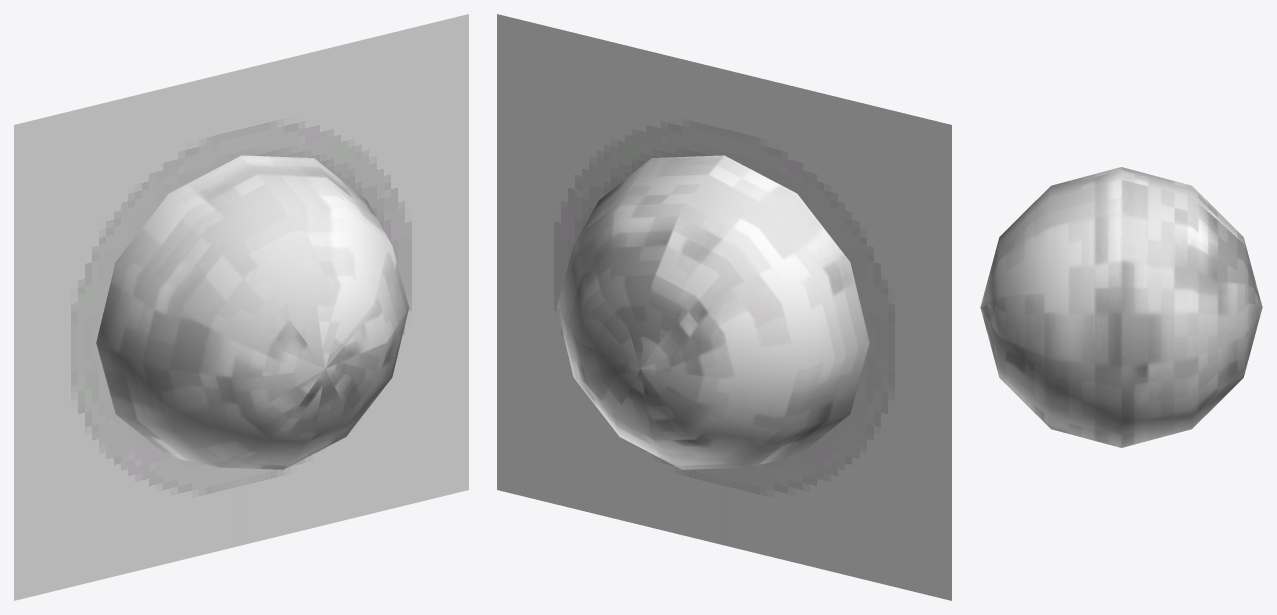
File: BonusDualWield Variant.fbx
The picture shows the model from 3 angles, left to right: view 1: azimuth 30°, elevation 25°; view 2: azimuth 150°, elevation 25°; view 3: azimuth 270°, elevation 25°; orthographic projection. The views are drawn at different scales.
Visible parts, largest first — view 1: ChargeEffect, BonusDualWield Variant; view 2: ChargeEffect, BonusDualWield Variant; view 3: BonusDualWield Variant.
Part boxes in pixels (x1,y1,x2,y2): ChargeEffect: [14, 14, 468, 600]; BonusDualWield Variant: [96, 155, 409, 469]; ChargeEffect: [497, 14, 951, 600]; BonusDualWield Variant: [556, 155, 869, 469]; BonusDualWield Variant: [980, 167, 1262, 447].
Bounding box in the file's own units: 5.6 × 5.6 × 3.58.
Materials: 2 (2 with a texture image).
